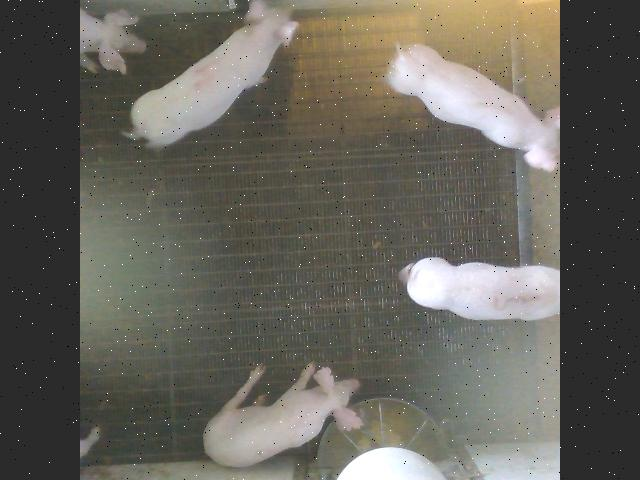pig-3: (400, 256, 559, 319)
pig-4: (124, 0, 297, 148)
